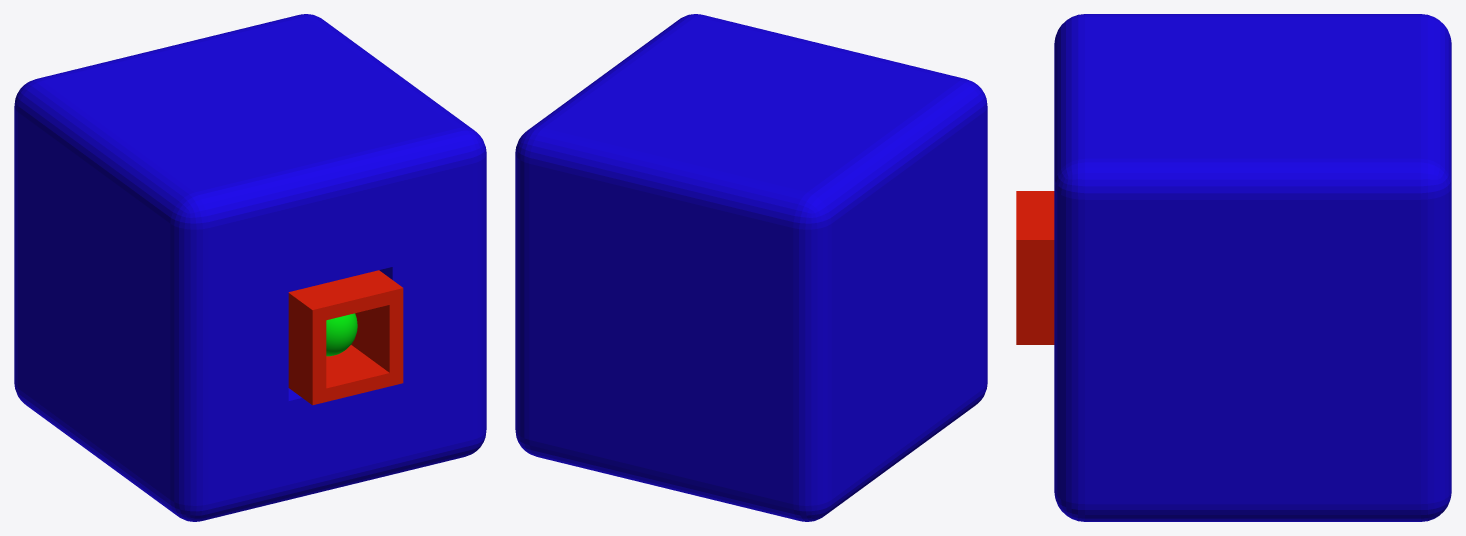
File: newnew.glb
The picture shows the model from 3 angles, left to right: view 1: azimuth 30°, elevation 25°; view 2: azimuth 150°, elevation 25°; view 3: azimuth 270°, elevation 25°; orthographic projection. The views are drawn at different scales.
Parts seen in each view (by area): view 1: Cube, Pack, Sphere; view 2: Cube; view 3: Cube, Pack.
Boxes of the visible parts, x1,y1,x2,y2 form: Cube: (14,14,486,521); Pack: (288,270,403,405); Sphere: (326,313,357,356); Cube: (515,14,987,521); Cube: (1054,14,1451,521); Pack: (1016,191,1054,344).
Bounding box in the file's own units: 2 × 2 × 2.19.
